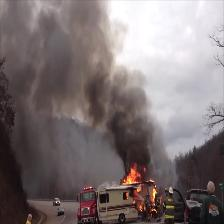fire: (121, 169, 147, 202)
smoke: (40, 10, 121, 126), (122, 97, 159, 165)
